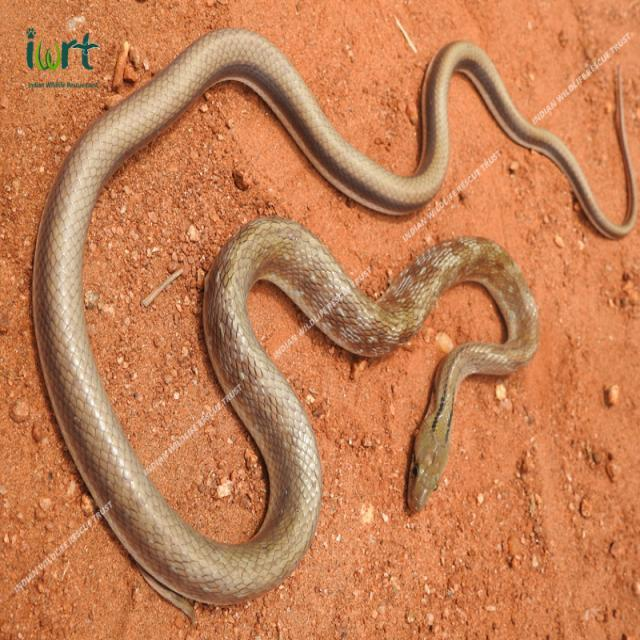Snake: (29, 24, 636, 622)
